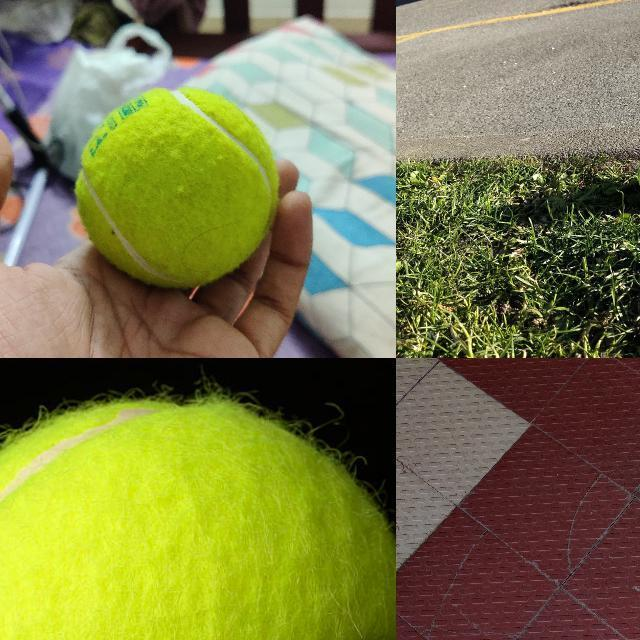tennis-ball: (0, 404, 395, 639), (72, 85, 279, 290)
